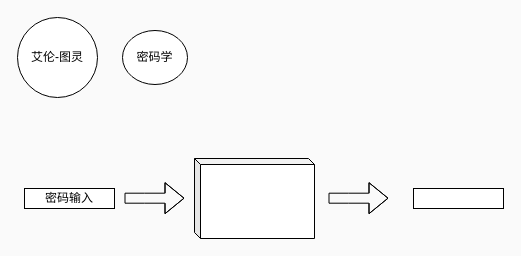
Some shapes in this 521 by 256 pixel diagram are drawn without their labels. Each missing label, with the centre of its shape:
"图灵机" goes at point 254,198.
"输出解密信息" goes at point 458,198.
